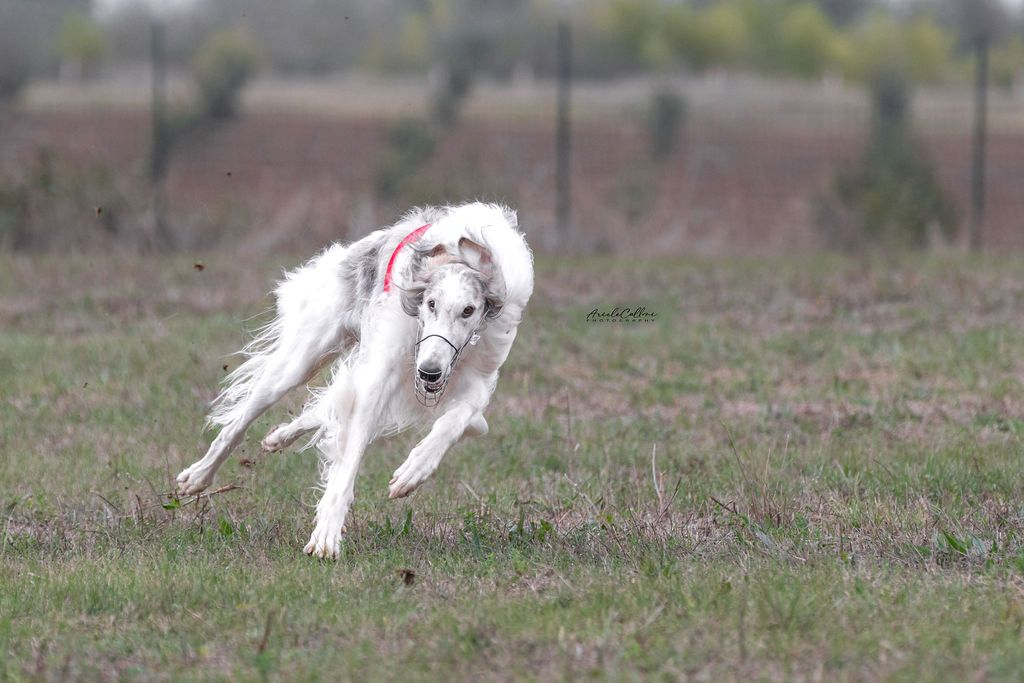borzoi: (167, 181, 564, 562)
